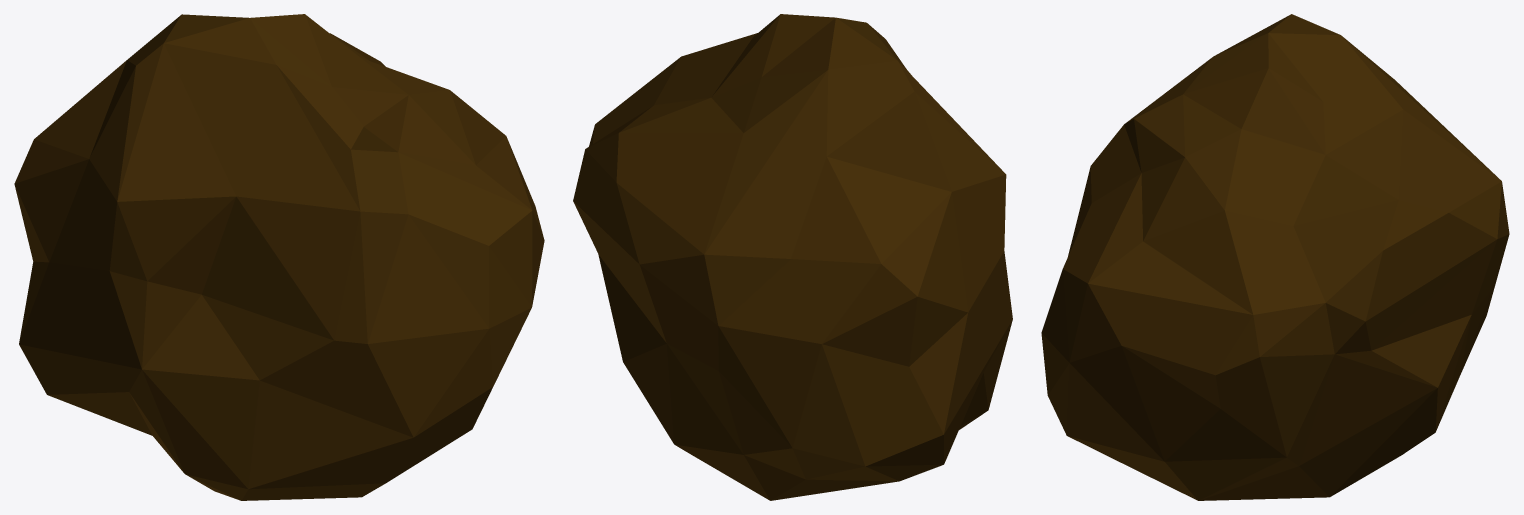
File: rock.fbx
3 renders of one model, left to right at view 1: azimuth 30°, elevation 25°; view 2: azimuth 150°, elevation 25°; view 3: azimuth 270°, elevation 25°, orthographic. The views are drawn at different scales.
Visible parts, largest first — view 1: Sphere; view 2: Sphere; view 3: Sphere.
Boxes of the visible parts, x1,y1,x2,y2 form: Sphere: (14, 14, 544, 500); Sphere: (573, 14, 1012, 500); Sphere: (1041, 14, 1509, 500).
Size of the model in its own units: 221 by 220 by 219.
